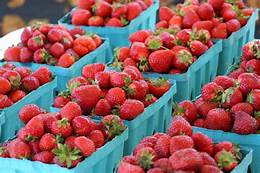Fresa: (167, 145, 207, 171), (72, 82, 104, 113), (147, 47, 177, 75), (165, 112, 194, 139), (171, 98, 201, 124), (230, 109, 258, 135), (117, 97, 146, 120), (23, 113, 46, 140), (212, 149, 239, 172), (58, 100, 84, 123), (219, 86, 245, 109), (81, 60, 107, 81), (37, 132, 62, 153), (129, 40, 152, 62), (107, 70, 133, 89), (187, 38, 211, 56), (91, 1, 116, 18), (2, 69, 23, 88), (32, 47, 50, 63)
